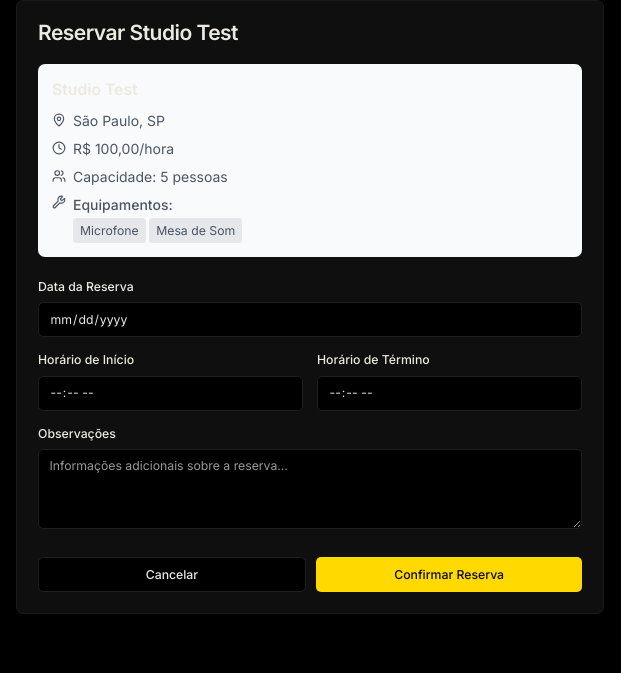
Test case: BookingForm › deve validar data mínima (não pode ser no passado)
The image size is (621, 673).
Type "2024-01-10" into the date field labelled "Data da Reserva" at (310, 320), box [38,302,582,337]
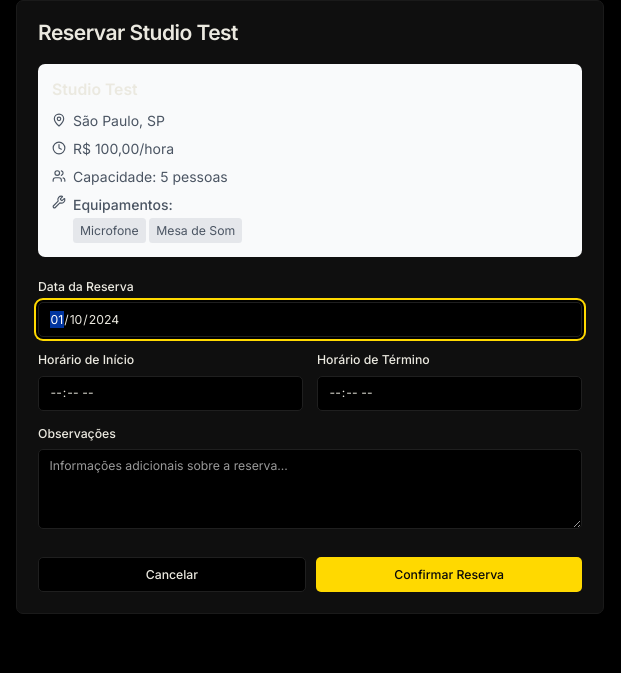
Click the button "Confirmar Reserva" at (449, 574), box [316,557,582,592]
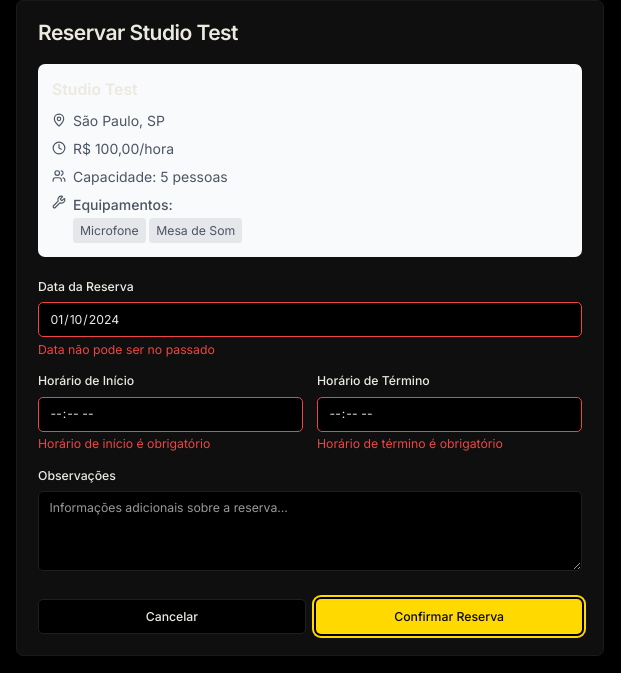
Check: the text "Data não pode ser no passado" is shown, box [38,342,215,356]
